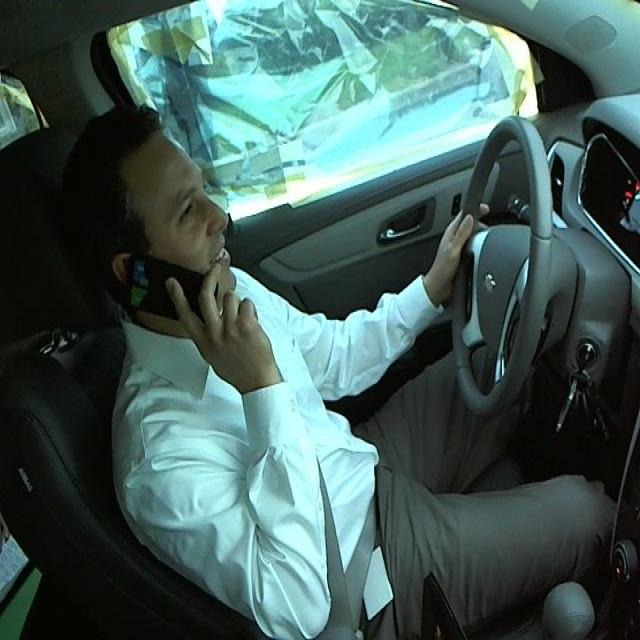using_phone: (63, 82, 275, 342)
